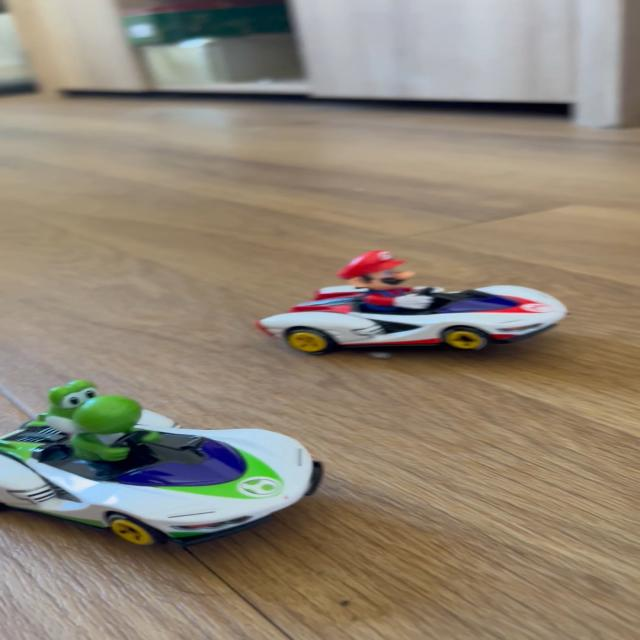mario: (248, 252, 580, 356)
yoshi: (1, 368, 338, 546)
